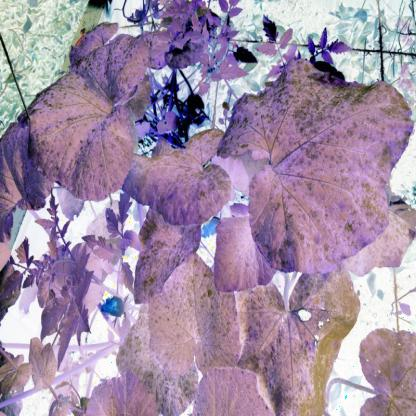squash powdery mildew leaf: (212, 53, 412, 270), (32, 34, 150, 200), (229, 268, 359, 415), (147, 241, 234, 415), (119, 118, 231, 228), (122, 196, 205, 307)
